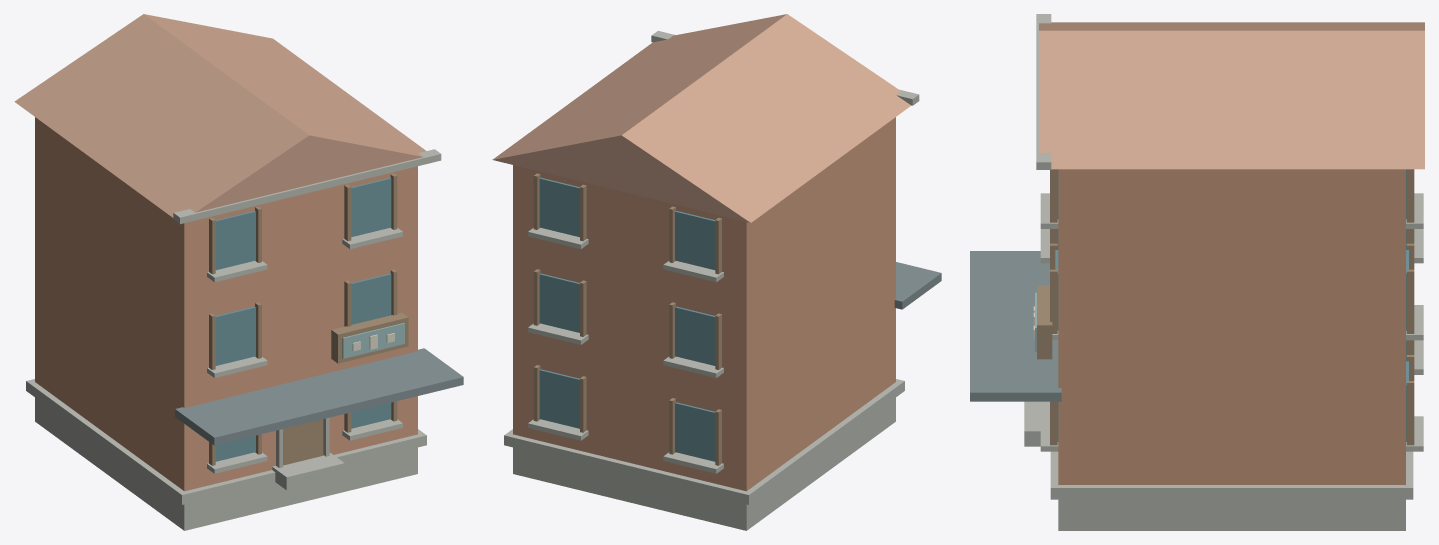
File: shop-2.glb
3 renders of one model, left to right at view 1: azimuth 30°, elevation 25°; view 2: azimuth 150°, elevation 25°; view 3: azimuth 270°, elevation 25°, orthographic. The views are drawn at different scales.
Bounding box in the file's own units: 4.14 × 5.65 × 5.37.
